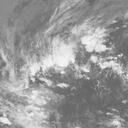cyclone: (38, 36, 76, 72)
